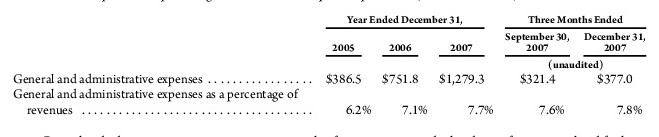table: (0, 0, 659, 137)
